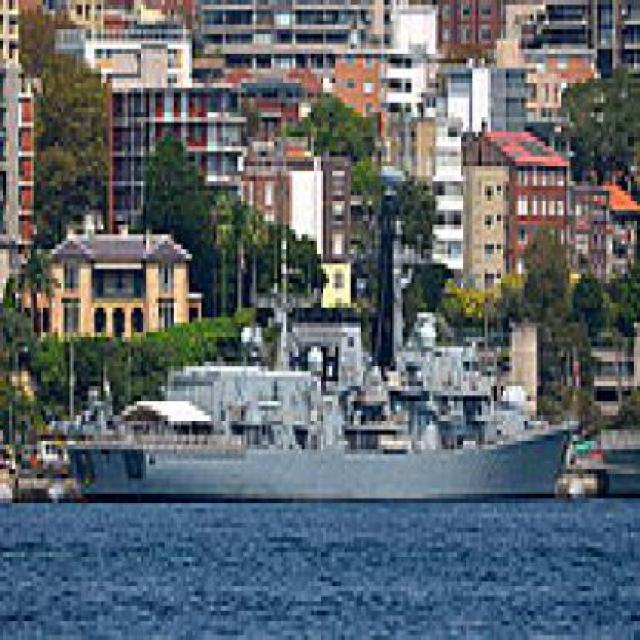warship2: (46, 256, 599, 514)
